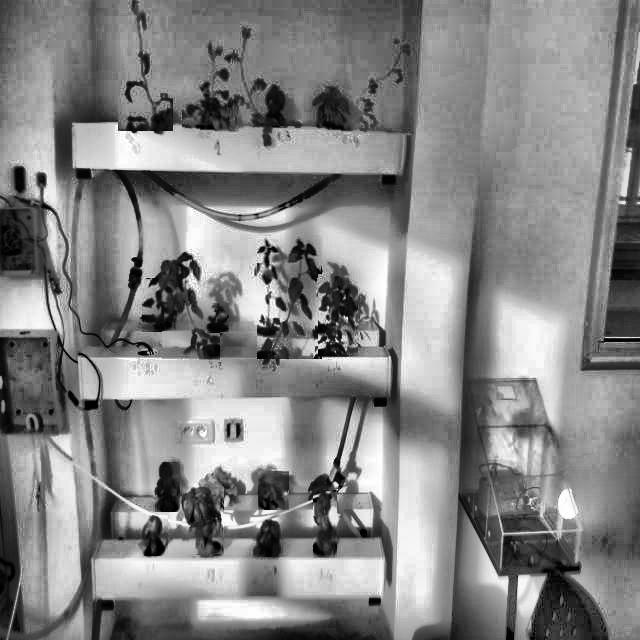plants: (325, 44, 414, 135), (257, 235, 322, 359), (118, 1, 173, 131), (232, 30, 303, 126), (162, 249, 220, 361), (182, 40, 244, 132), (318, 274, 358, 355), (182, 487, 224, 556), (254, 236, 284, 328), (142, 278, 181, 332), (313, 490, 337, 558), (155, 462, 180, 512), (258, 471, 289, 510), (253, 519, 283, 557), (141, 515, 168, 556), (203, 303, 229, 332)
